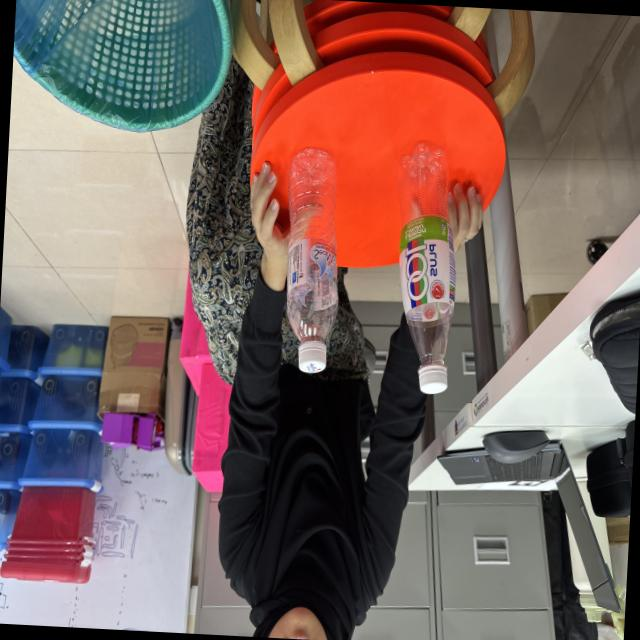dustbin: (10, 0, 245, 140)
plastic_bottle: (382, 134, 468, 400), (274, 129, 351, 381)
